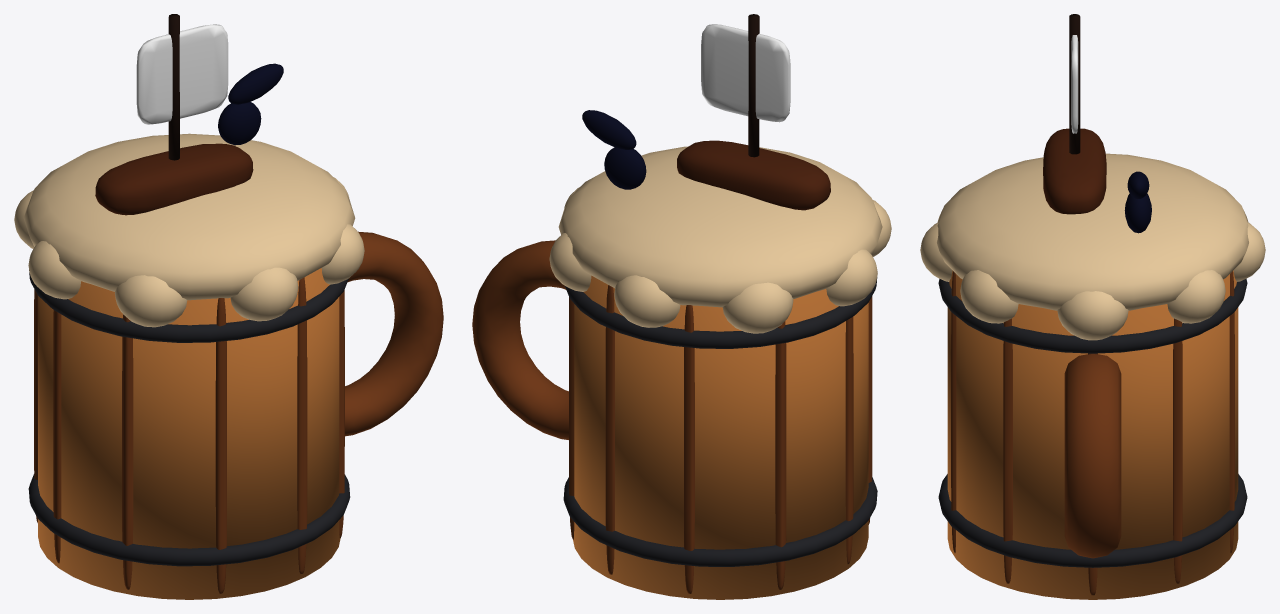
The model's file is SeaShantyMug.fbx.
The picture shows the model from 3 angles, left to right: view 1: azimuth 30°, elevation 25°; view 2: azimuth 150°, elevation 25°; view 3: azimuth 270°, elevation 25°; orthographic projection. The views are drawn at different scales.
Parts seen in each view (by area): view 1: SeaShantyMug; view 2: SeaShantyMug; view 3: SeaShantyMug.
Part boxes in pixels (x1=…): SeaShantyMug: x1=14, y1=14, x2=443, y2=599; SeaShantyMug: x1=472, y1=14, x2=891, y2=599; SeaShantyMug: x1=920, y1=14, x2=1265, y2=599.
Size of the model in its own units: 2.47 by 3.1 by 1.9.
Materials: 1 (1 with a texture image).
